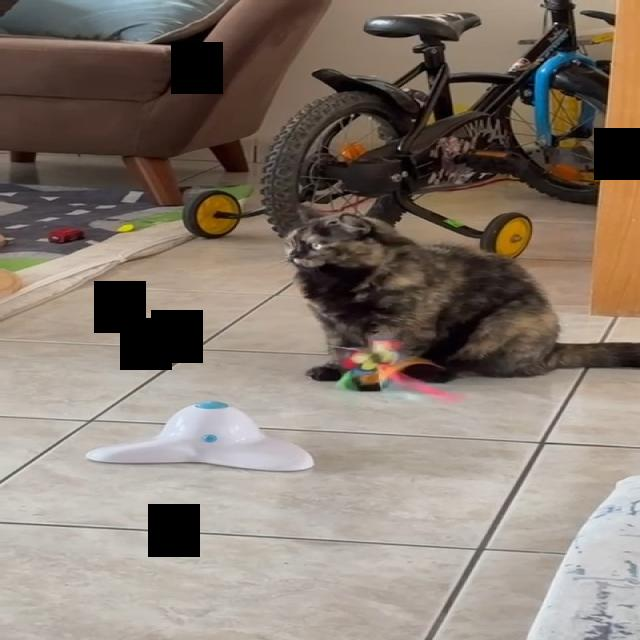authorized: (281, 210, 639, 384)
